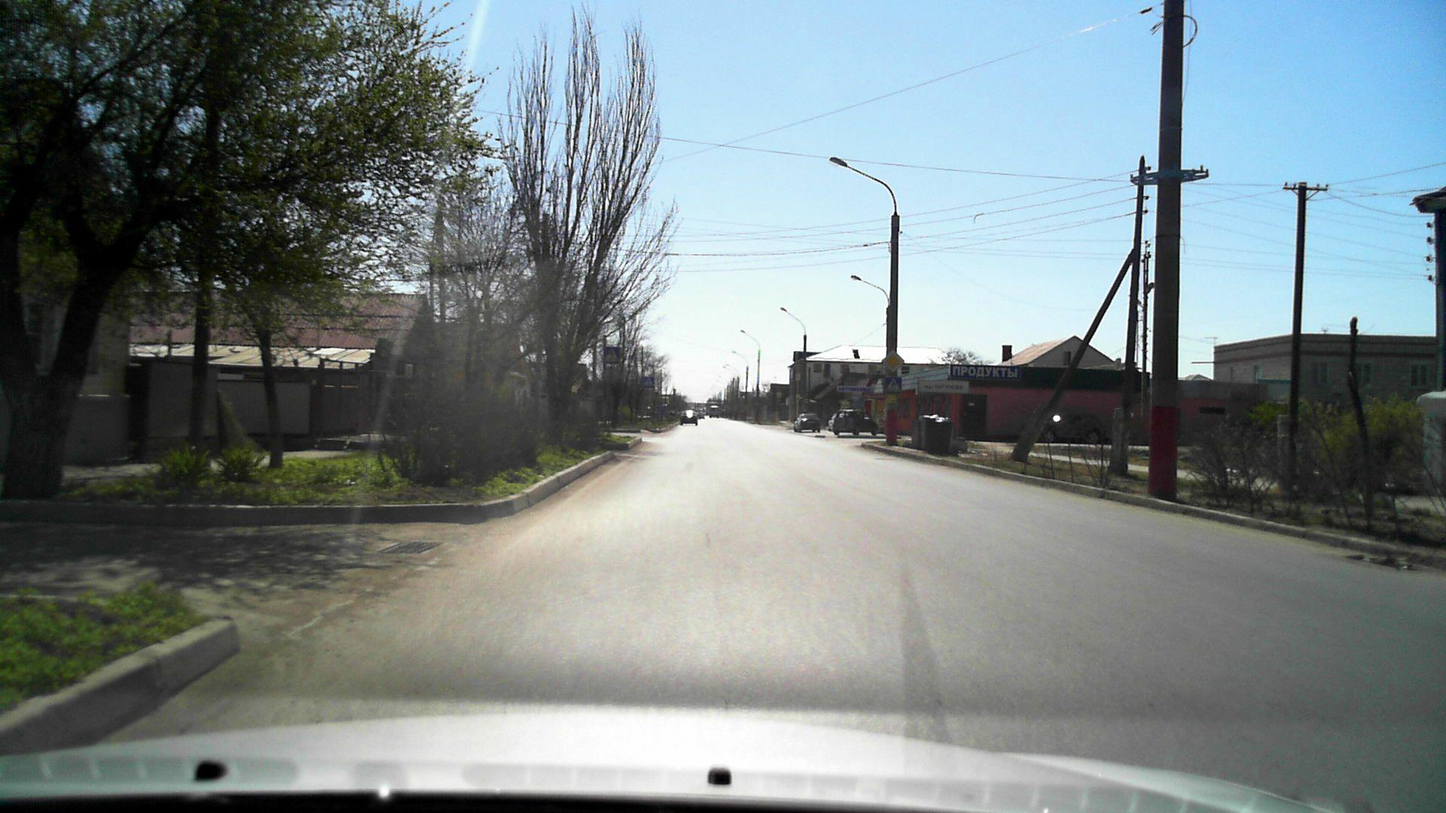road_sign: (880, 350, 907, 374)
